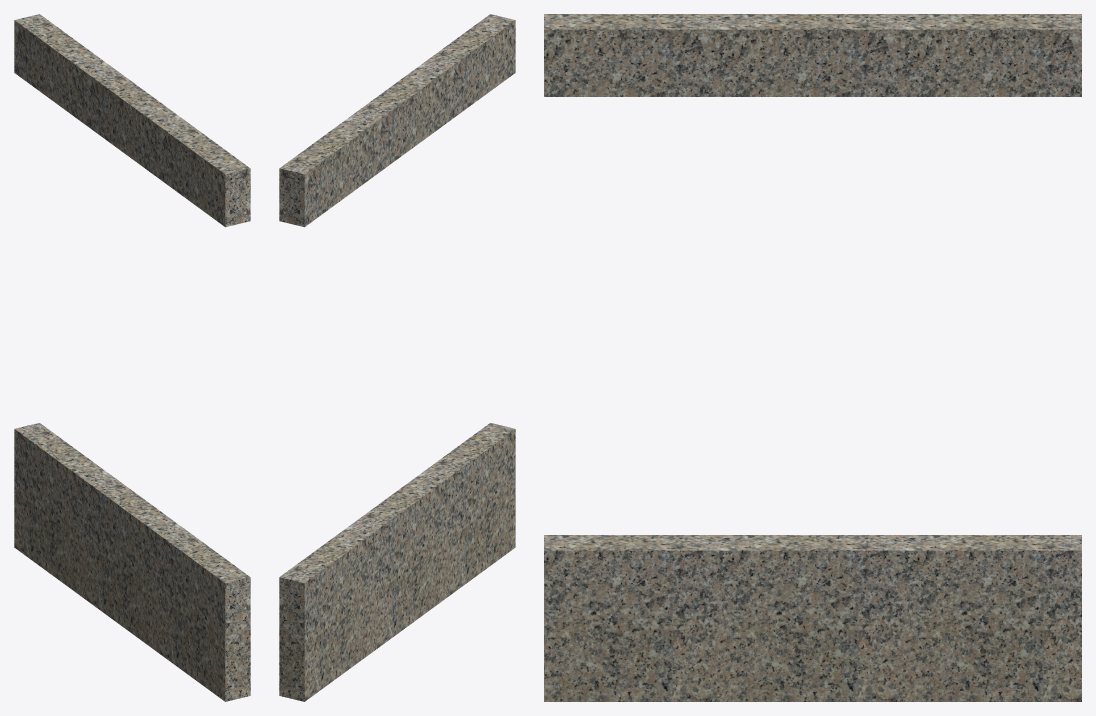
File: Lobby_Wall_23.obj
3 renders of one model, left to right at view 1: azimuth 30°, elevation 25°; view 2: azimuth 150°, elevation 25°; view 3: azimuth 270°, elevation 25°, orthographic. The views are drawn at different scales.
Visible parts, largest first — view 1: Lobby_Wall_23; view 2: Lobby_Wall_23; view 3: Lobby_Wall_23.
Part boxes in pixels (left/top/right/bottom): Lobby_Wall_23: left=14, top=14, right=250, bottom=701; Lobby_Wall_23: left=279, top=14, right=515, bottom=701; Lobby_Wall_23: left=544, top=14, right=1081, bottom=701.
Size of the model in its own units: 0.2 by 4 by 2.9.
Materials: 1 (1 with a texture image).
